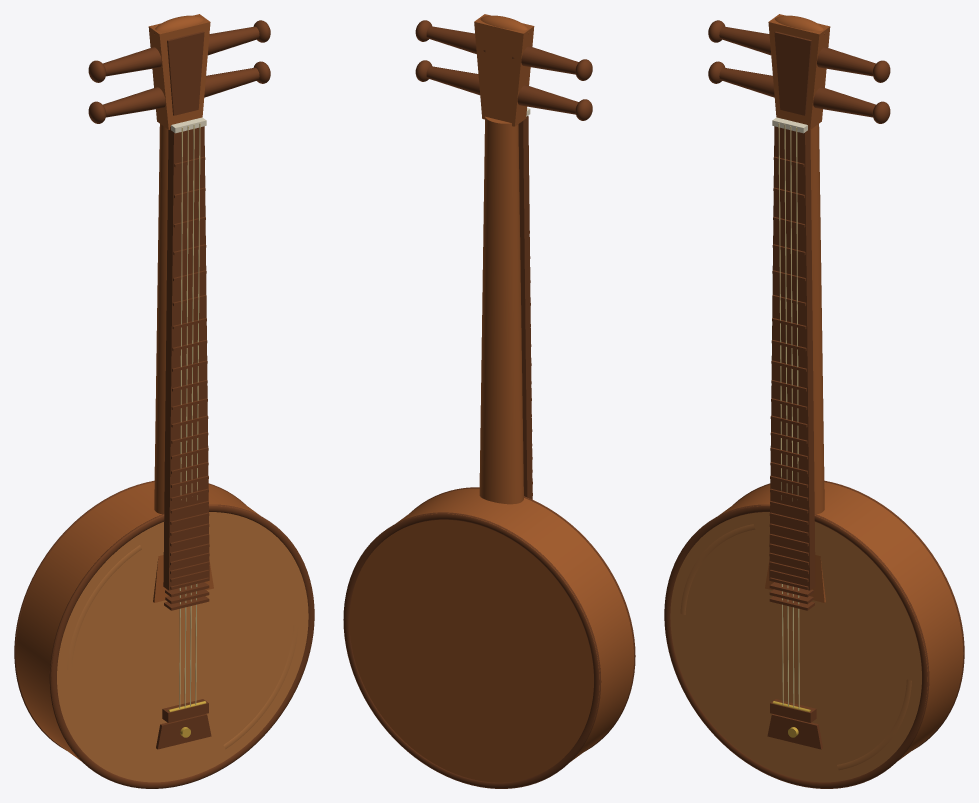
The model's file is ruan.glb.
The picture shows the model from 3 angles, left to right: view 1: azimuth 30°, elevation 25°; view 2: azimuth 150°, elevation 25°; view 3: azimuth 330°, elevation 25°; orthographic projection. The views are drawn at different scales.
Parts seen in each view (by area): view 1: soundboard, fingerboard, body_rim, binding_front, neck, headstock_inlay, headstock, tailpiece, peg_l1, peg_l2, peg_r1, peg_r2 (+9 smaller); view 2: back_plate, neck, body_rim, binding_back, headstock, fingerboard, peg_l1, peg_l2, peg_r1, peg_r2, binding_front; view 3: soundboard, fingerboard, body_rim, binding_front, neck, headstock_inlay, headstock, tailpiece, peg_r1, peg_r2, peg_l1, peg_l2 (+9 smaller).
Boxes of the visible parts, box(x1,y1,x2,y2) form: soundboard: box(57, 512, 308, 782); fingerboard: box(163, 126, 209, 590); body_rim: box(14, 482, 260, 760); binding_front: box(49, 504, 314, 788); neck: box(154, 124, 168, 514); headstock_inlay: box(167, 31, 204, 115); headstock: box(148, 14, 210, 129); tailpiece: box(156, 714, 211, 749); peg_l1: box(103, 87, 165, 117); peg_l2: box(103, 47, 161, 76); peg_r1: box(204, 67, 259, 97); peg_r2: box(208, 26, 259, 55); back_plate: box(349, 519, 593, 782); neck: box(479, 116, 523, 504); body_rim: box(396, 488, 635, 761); binding_back: box(343, 512, 601, 788); headstock: box(474, 14, 534, 126); fingerboard: box(518, 116, 532, 499); peg_l1: box(517, 85, 578, 114); peg_l2: box(512, 46, 578, 74); peg_r1: box(426, 66, 480, 95); peg_r2: box(426, 26, 485, 53); binding_front: box(409, 487, 635, 751); soundboard: box(670, 512, 921, 782); fingerboard: box(769, 126, 815, 590); body_rim: box(718, 482, 964, 760); binding_front: box(664, 504, 929, 788); neck: box(810, 124, 824, 514); headstock_inlay: box(774, 31, 811, 115); headstock: box(768, 14, 830, 129); tailpiece: box(767, 714, 822, 749); peg_r1: box(813, 87, 875, 117); peg_r2: box(817, 47, 875, 76); peg_l1: box(719, 67, 774, 97); peg_l2: box(719, 26, 770, 55).
Size of the model in its own units: 0.364 by 1 by 0.1089.
